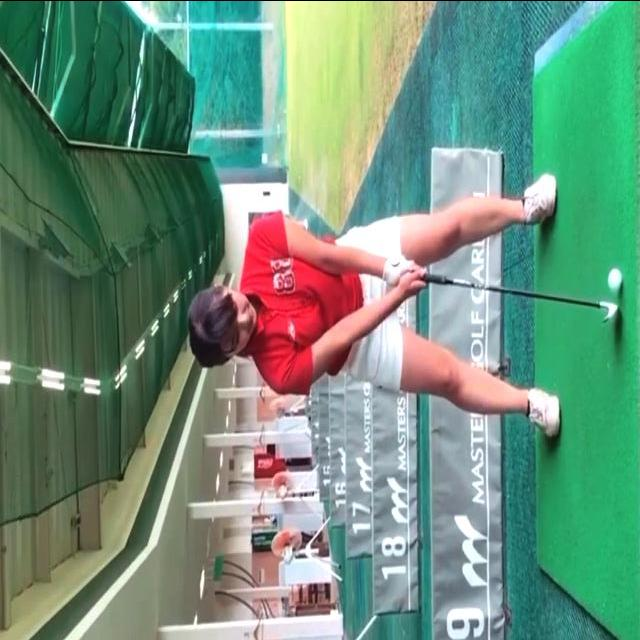ClubHandle: (424, 272, 620, 323)
ClubHead: (602, 300, 620, 323)
GolfBall: (608, 267, 624, 292)
